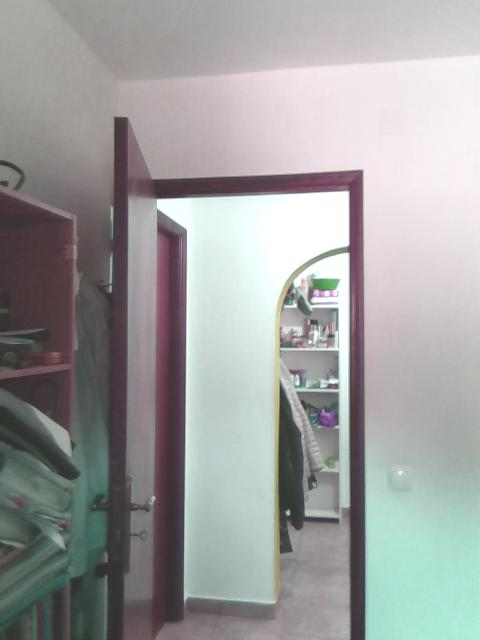open_door: (127, 166, 367, 639)
